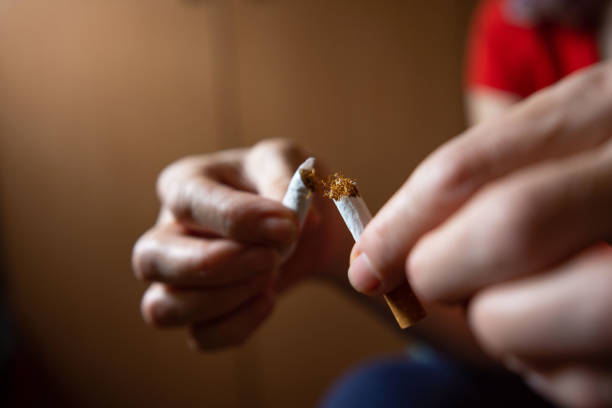cigarette: (325, 174, 426, 332), (277, 169, 317, 265)
